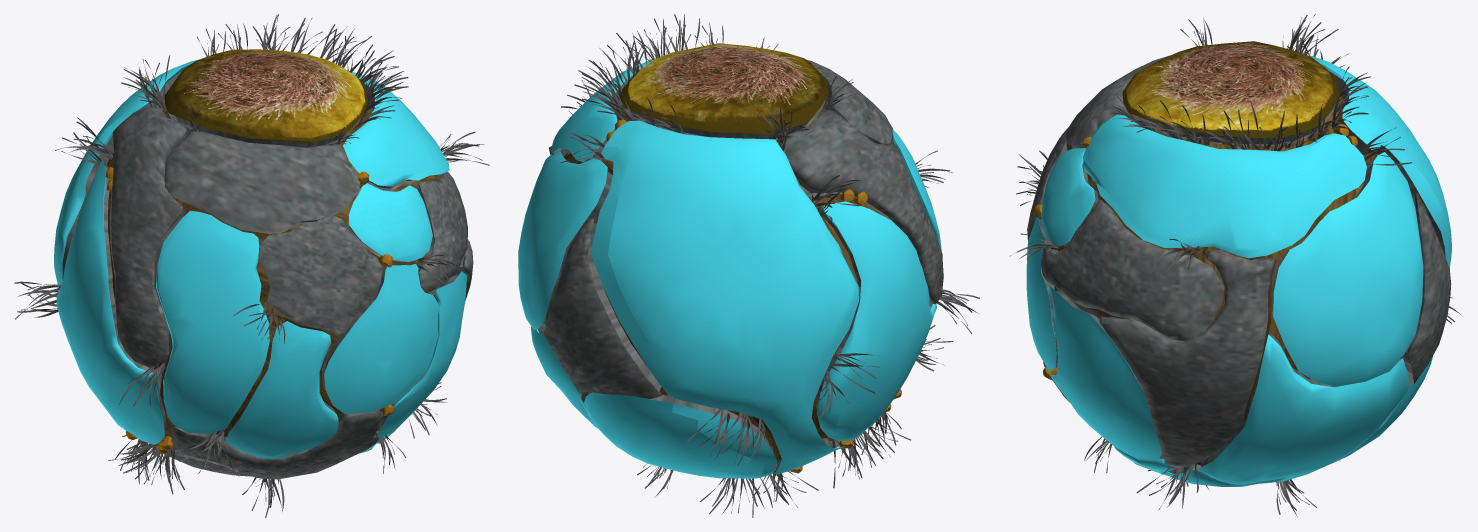
The model's file is dinopackunbattleplanet.dae.
3 renders of one model, left to right at view 1: azimuth 30°, elevation 25°; view 2: azimuth 150°, elevation 25°; view 3: azimuth 270°, elevation 25°, orthographic. The views are drawn at different scales.
Parts seen in each view (by area): view 1: n2b0, n4b3, n5b4, n6b6, n1b2, n7b7, n3b1, n0b5, n8b8; view 2: n2b0, n6b6, n5b4, n7b7, n4b3, n3b1, n0b5, n8b8; view 3: n2b0, n5b4, n6b6, n4b3, n7b7, n3b1, n1b2, n0b5, n8b8.
Boxes of the visible parts, x1=… form: n2b0: x1=54, y1=59, x2=467, y2=444; n4b3: x1=109, y1=107, x2=467, y2=476; n5b4: x1=164, y1=131, x2=473, y2=479; n6b6: x1=164, y1=49, x2=368, y2=143; n1b2: x1=226, y1=183, x2=432, y2=459; n7b7: x1=14, y1=14, x2=489, y2=517; n3b1: x1=62, y1=71, x2=465, y2=459; n0b5: x1=107, y1=104, x2=458, y2=436; n8b8: x1=105, y1=49, x2=393, y2=453; n2b0: x1=518, y1=58, x2=941, y2=478; n6b6: x1=621, y1=43, x2=828, y2=134; n5b4: x1=543, y1=60, x2=892, y2=398; n7b7: x1=560, y1=14, x2=979, y2=517; n4b3: x1=775, y1=108, x2=943, y2=470; n3b1: x1=537, y1=77, x2=932, y2=469; n0b5: x1=563, y1=98, x2=887, y2=462; n8b8: x1=606, y1=119, x2=901, y2=473; n2b0: x1=1026, y1=56, x2=1451, y2=484; n5b4: x1=1043, y1=46, x2=1451, y2=468; n6b6: x1=1122, y1=41, x2=1339, y2=138; n4b3: x1=1027, y1=127, x2=1224, y2=341; n7b7: x1=1009, y1=14, x2=1461, y2=516; n3b1: x1=1039, y1=71, x2=1445, y2=473; n1b2: x1=1041, y1=148, x2=1285, y2=486; n0b5: x1=1051, y1=94, x2=1401, y2=465; n8b8: x1=1033, y1=124, x2=1357, y2=379.
Size of the model in its own units: 1774 by 1846 by 1725.
